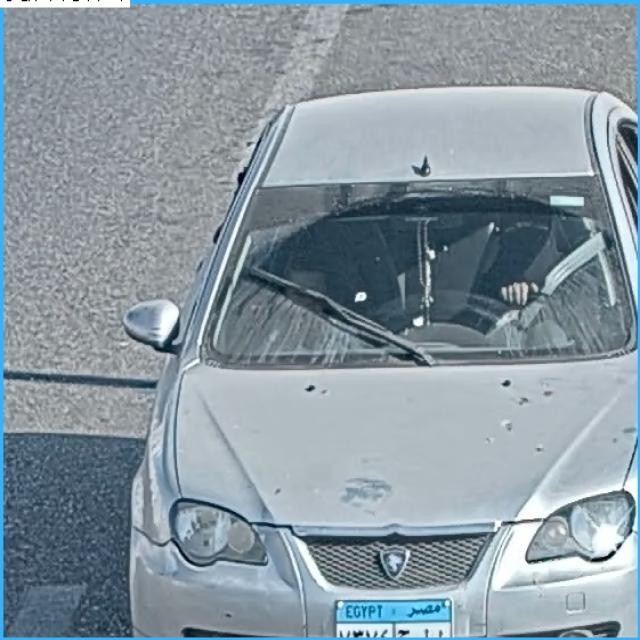windshield: (199, 181, 633, 365)
